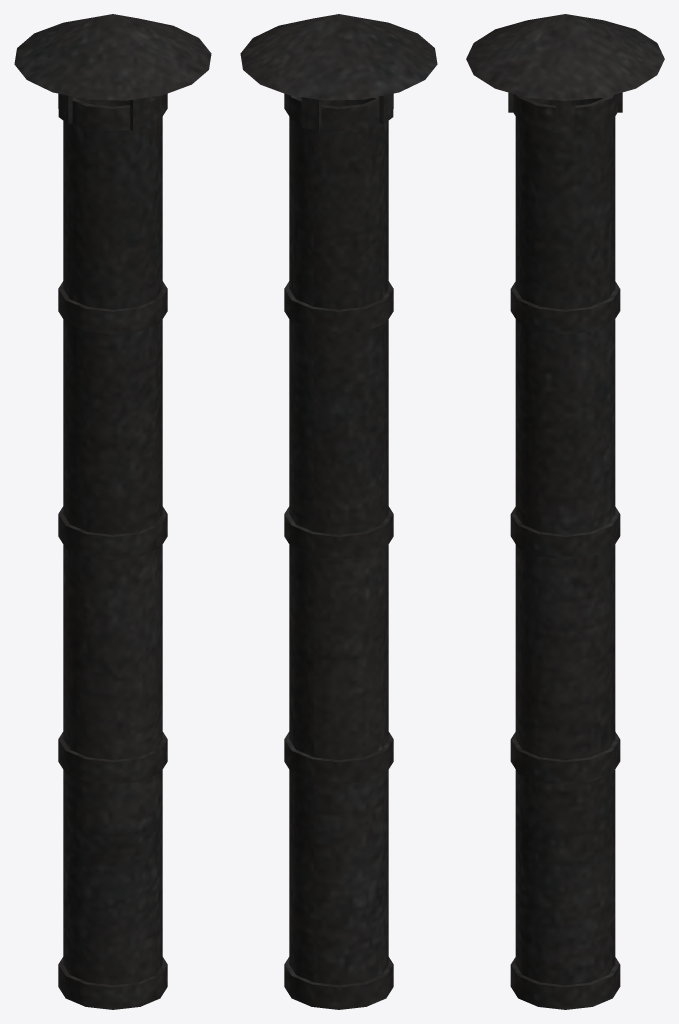
The model's file is chimney_a_4.dae.
3 renders of one model, left to right at view 1: azimuth 30°, elevation 25°; view 2: azimuth 150°, elevation 25°; view 3: azimuth 270°, elevation 25°, orthographic.
Parts seen in each view (by area): view 1: chimney_a_4; view 2: chimney_a_4; view 3: chimney_a_4.
Boxes of the visible parts, x1,y1,x2,y2 form: chimney_a_4: (14, 14, 211, 1009); chimney_a_4: (240, 14, 437, 1009); chimney_a_4: (466, 14, 664, 1009).
Size of the model in its own units: 0.4 by 0.4 by 2.16.
1 material, 1 textured.
